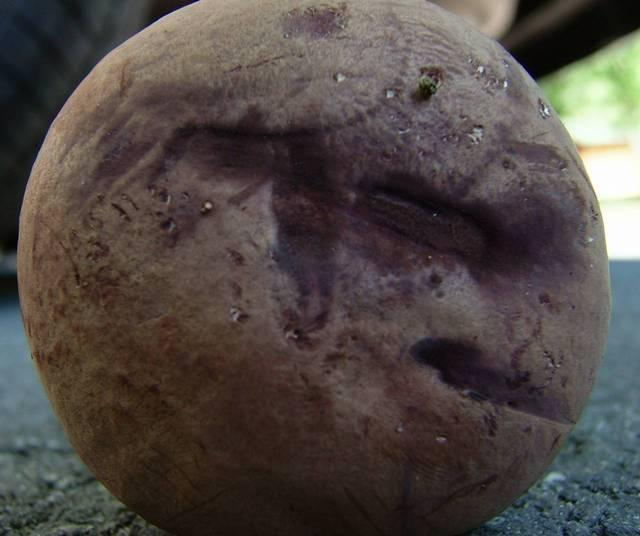Non-edible Mushroom: (14, 0, 613, 535)
